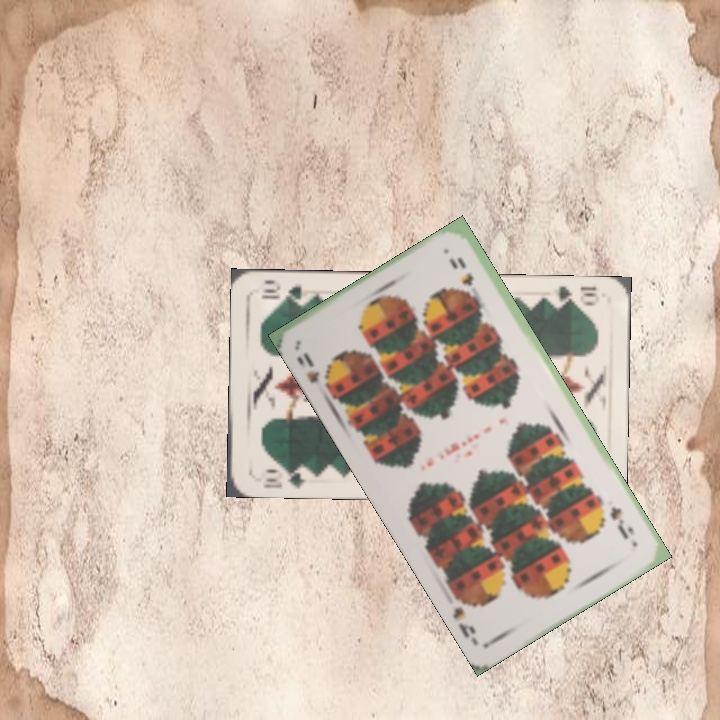G10: (545, 282, 601, 310), (259, 462, 311, 490)
S9: (299, 348, 337, 395), (606, 502, 637, 543)
